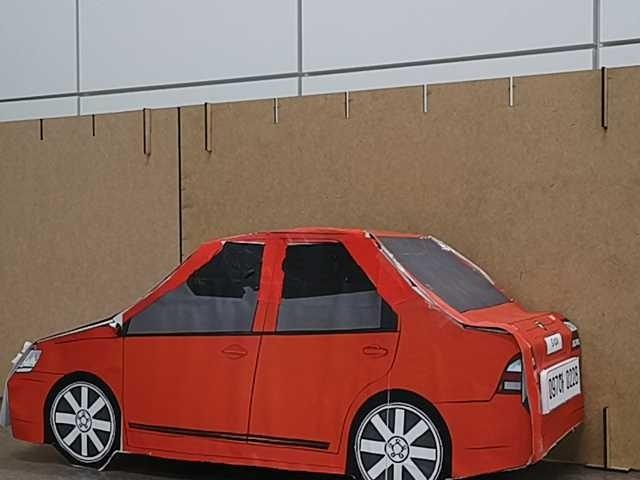car: (7, 229, 579, 480)
id: (536, 356, 582, 418)
